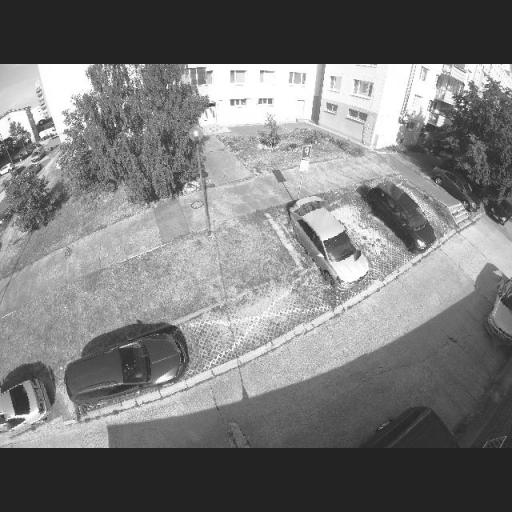busy: (61, 320, 195, 404), (293, 198, 376, 296), (367, 180, 436, 250), (0, 358, 60, 438), (481, 271, 512, 346)
free: (221, 298, 304, 350), (435, 356, 493, 415), (347, 211, 389, 263)
